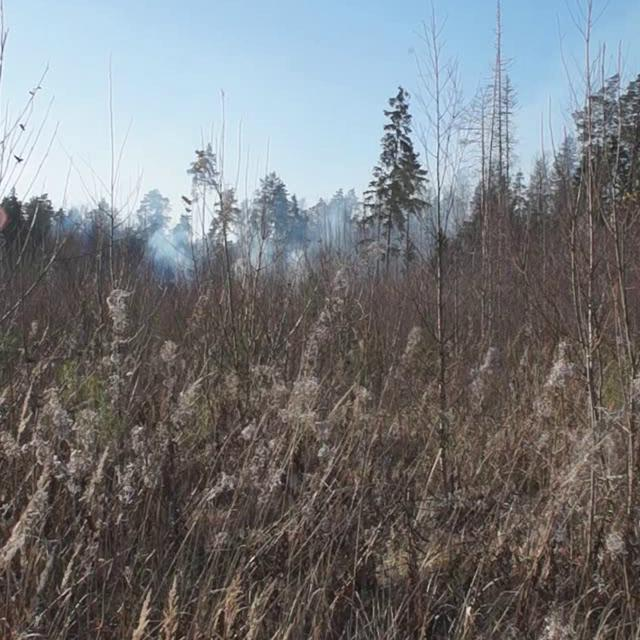Smoke: (102, 164, 486, 292)
